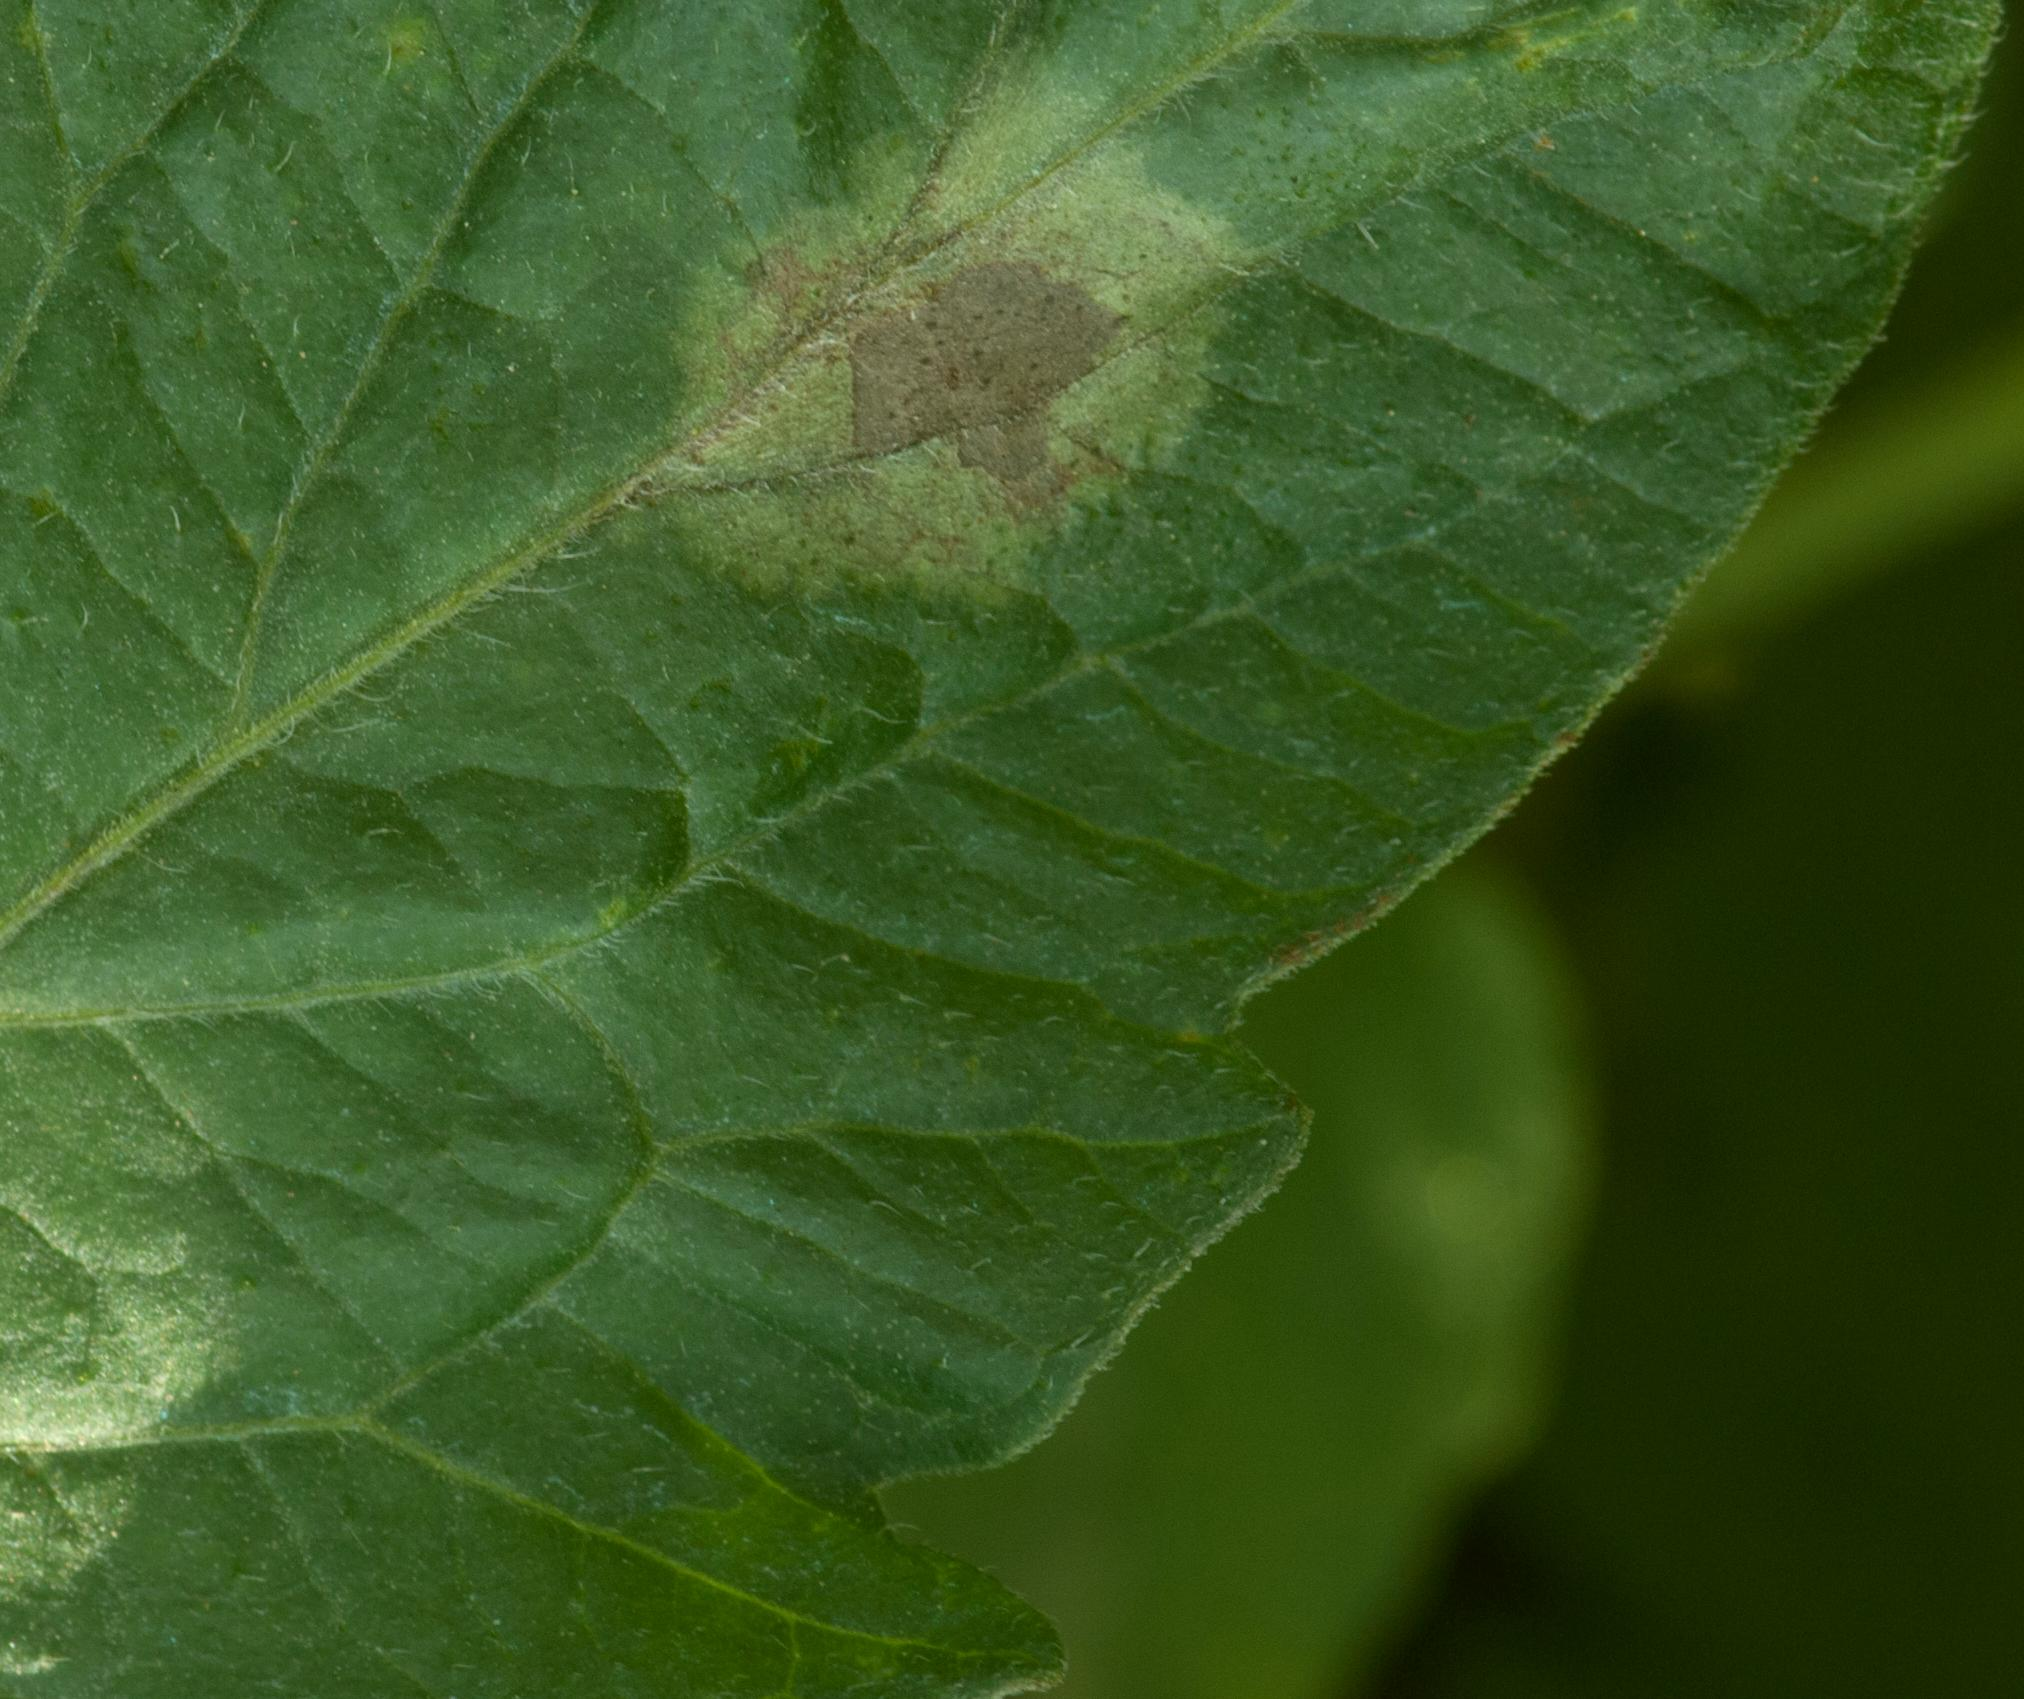Tomato leaf late blight: (0, 0, 2024, 1686)
